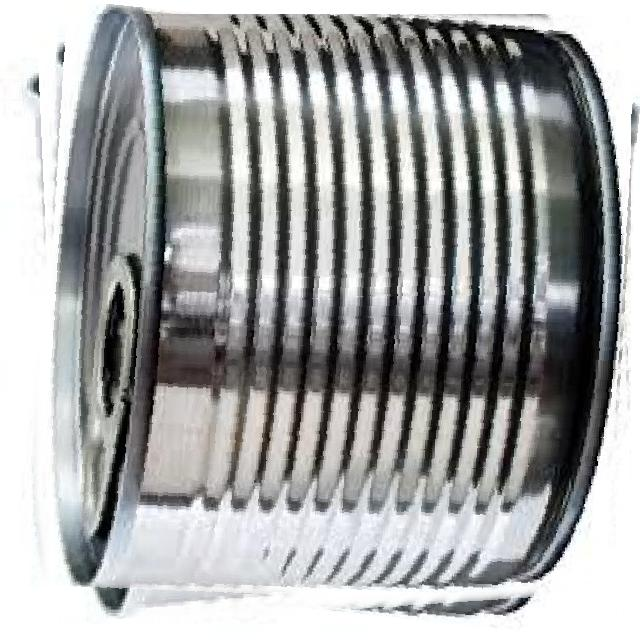recyclable: (13, 14, 631, 630)
